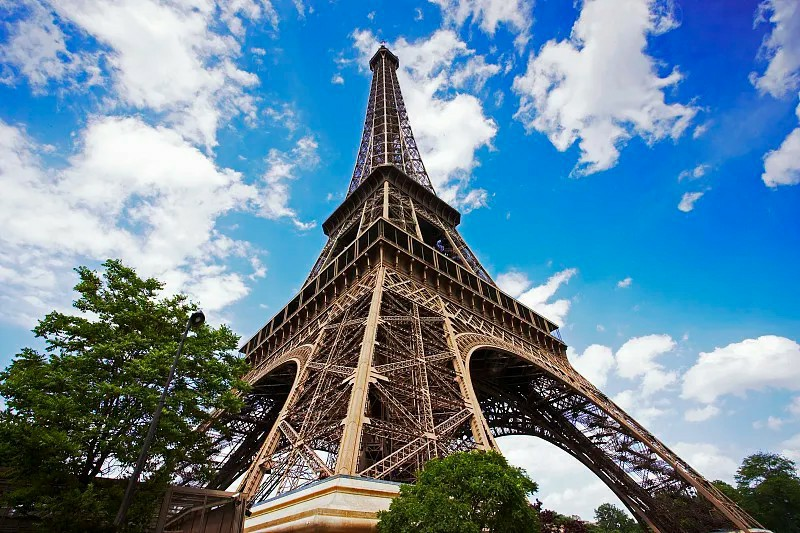Eiffel: (150, 41, 773, 533)
